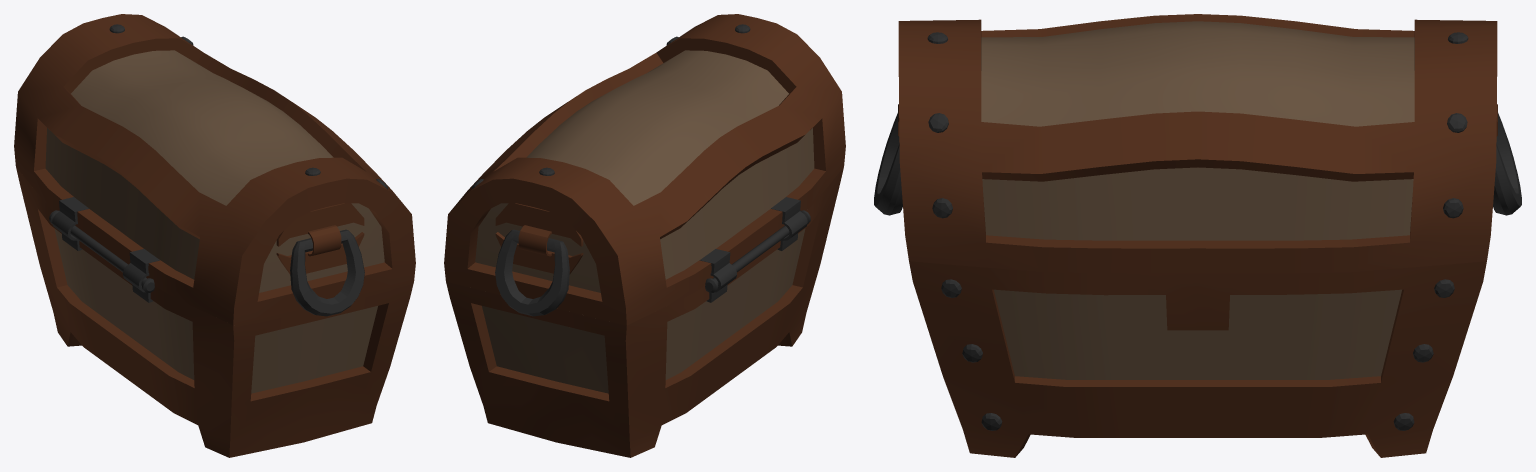
The model's file is Chest_FBX_02.fbx.
3 views of the same model, side by side, from view 1: azimuth 30°, elevation 25°; view 2: azimuth 150°, elevation 25°; view 3: azimuth 270°, elevation 25° (orthographic). The views are drawn at different scales.
Parts seen in each view (by area): view 1: Smooth_top.006; view 2: Smooth_top.006; view 3: Smooth_top.006.
Part boxes in pixels (bbox=[...]): Smooth_top.006: bbox=[14, 14, 415, 457]; Smooth_top.006: bbox=[444, 14, 845, 457]; Smooth_top.006: bbox=[874, 14, 1521, 457].
Size of the model in its own units: 123 by 143 by 225.
